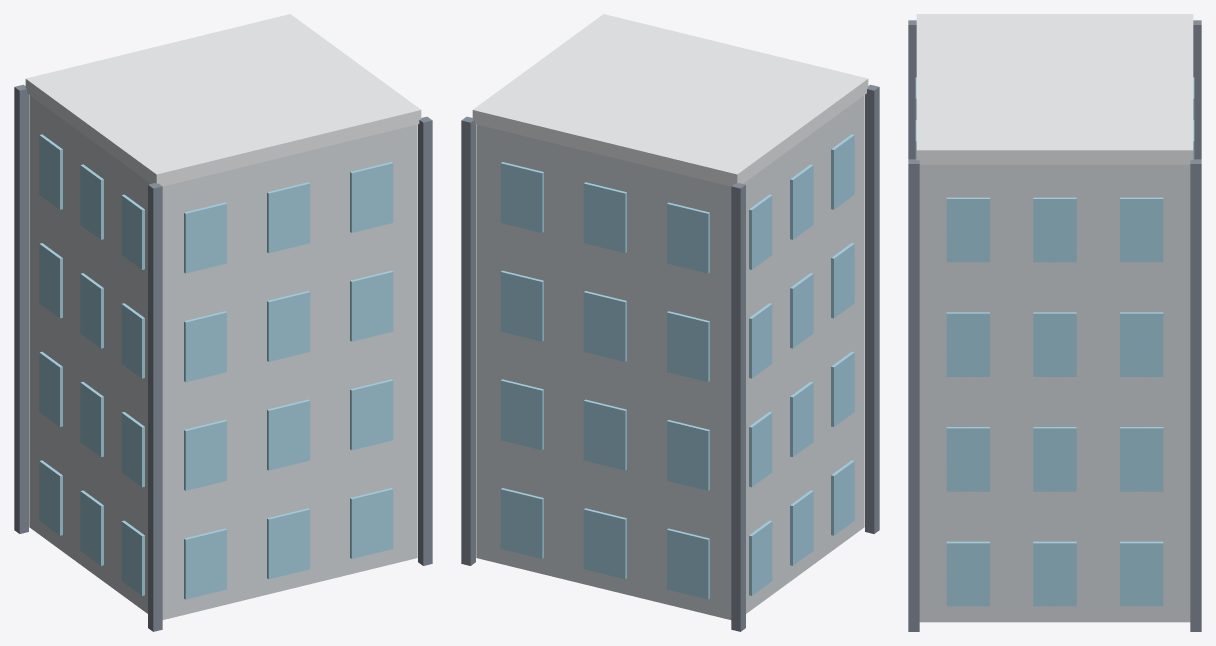
The model's file is commercial_a.glb.
3 renders of one model, left to right at view 1: azimuth 30°, elevation 25°; view 2: azimuth 150°, elevation 25°; view 3: azimuth 270°, elevation 25°, orthographic. The views are drawn at different scales.
Size of the model in its own units: 7.53 by 11.67 by 6.49.
